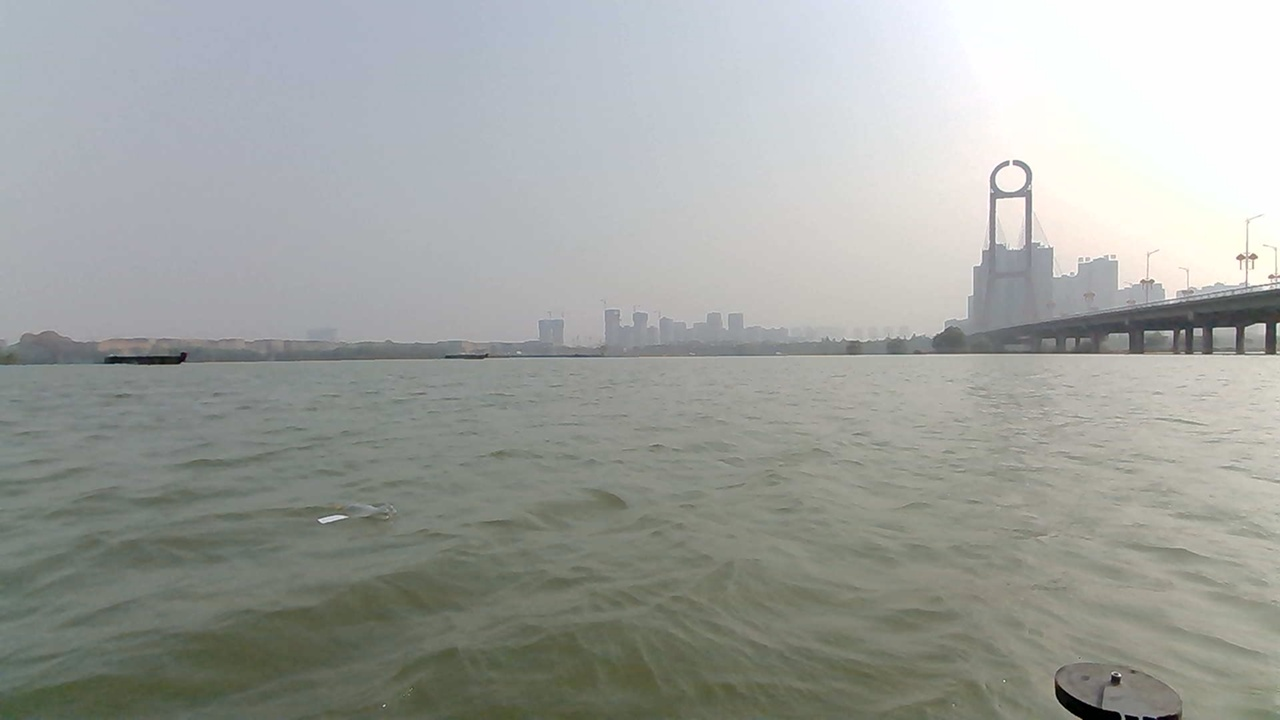bottle: (270, 519, 420, 583)
